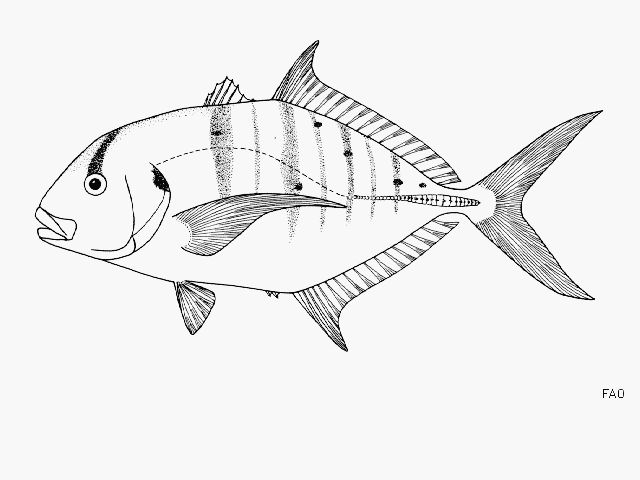fish: (34, 40, 605, 353)
